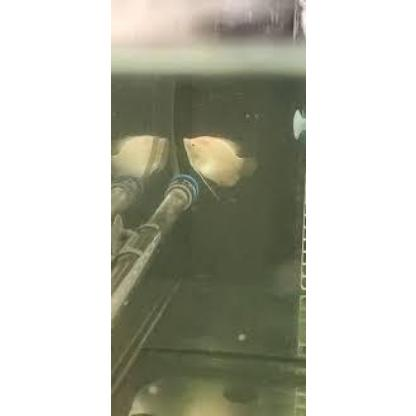gurame: (183, 126, 256, 190)
